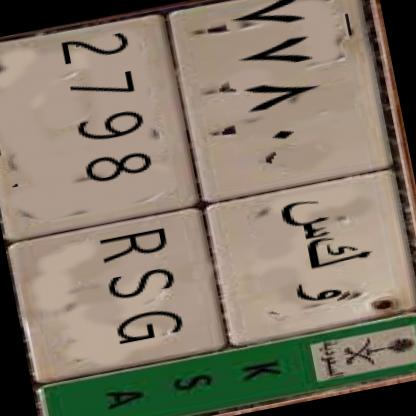english: (0, 11, 243, 382)
